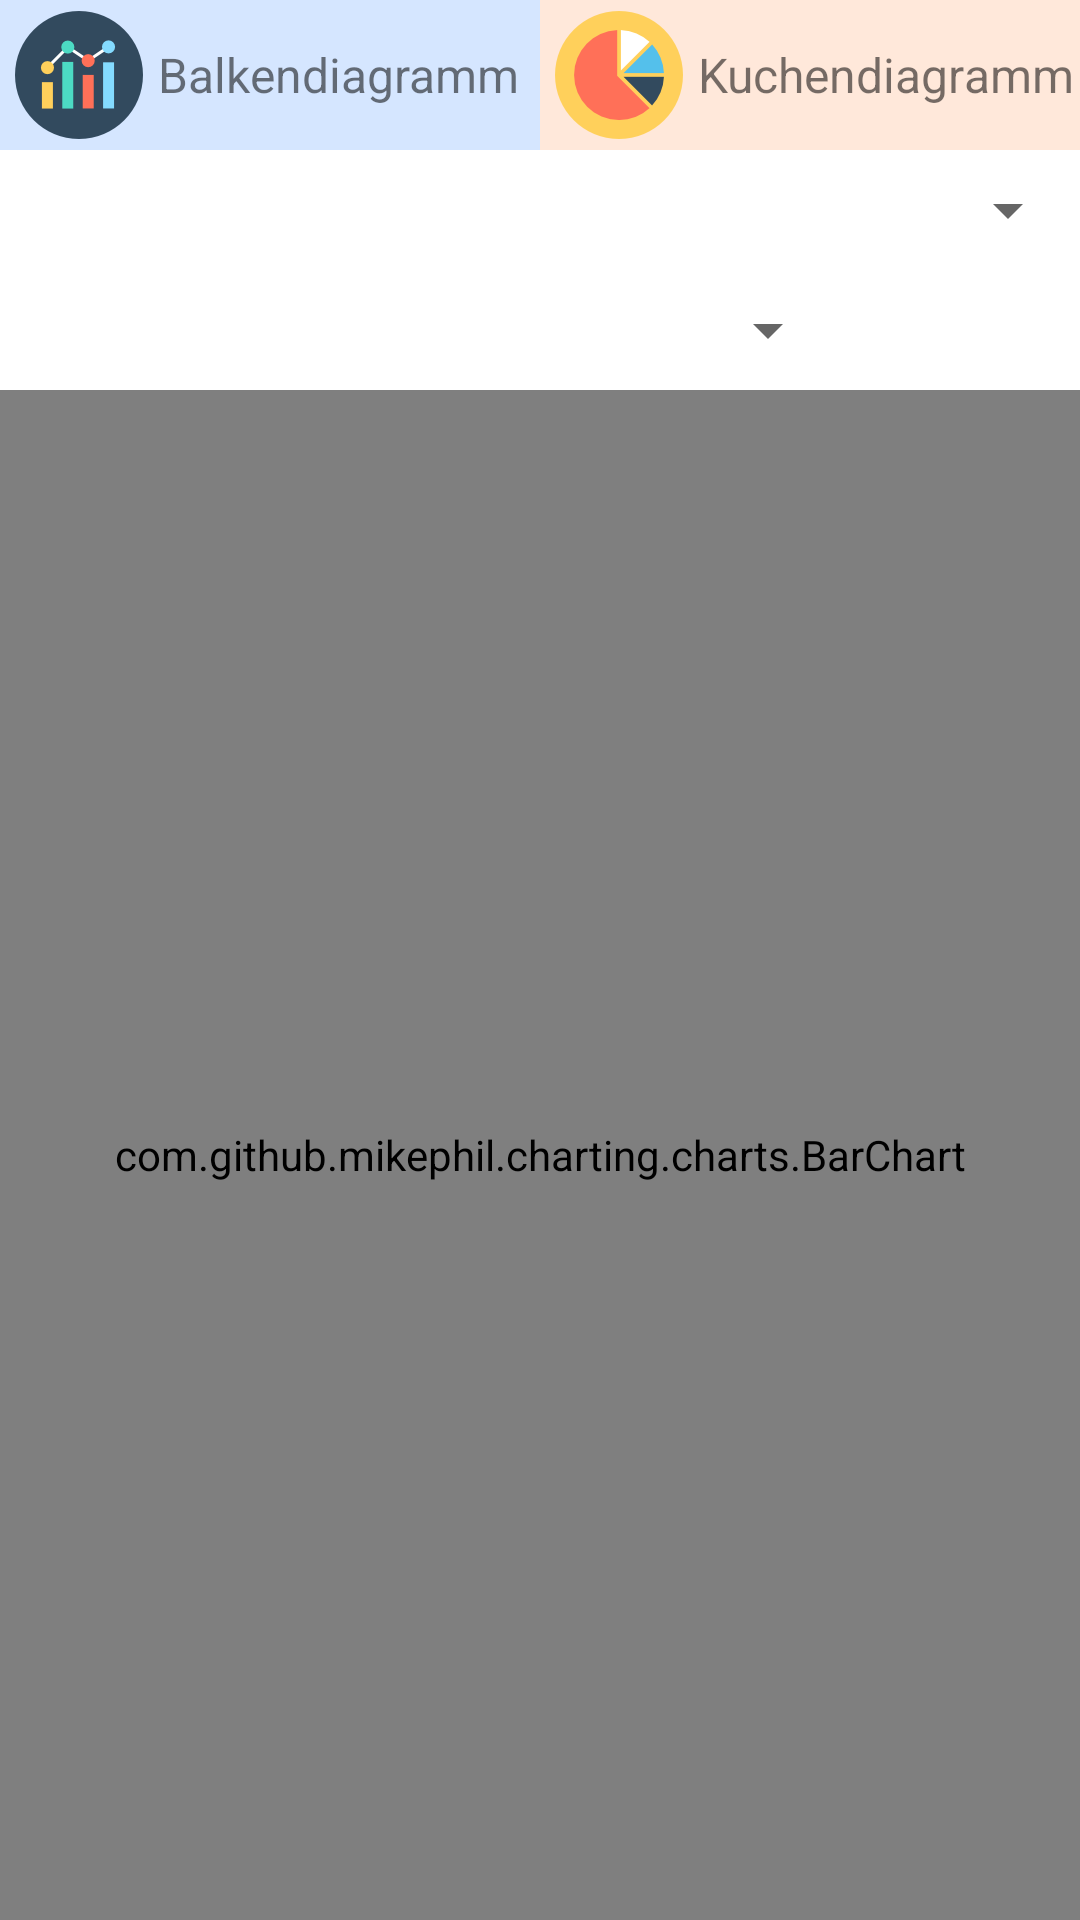

Icons on this 1080px x 1920px Android screen, each with the point to tap as (x=x, y=y):
cake chart: (x=619, y=75)
line chart: (x=79, y=75)
